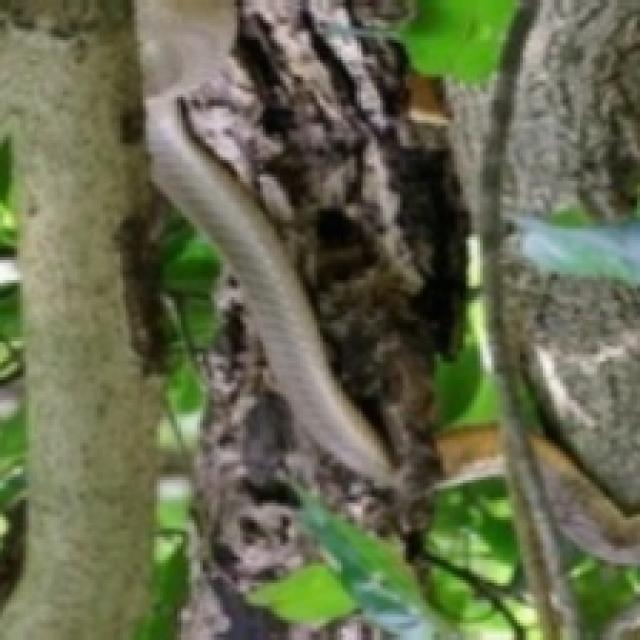king cobra: (146, 91, 389, 483)
